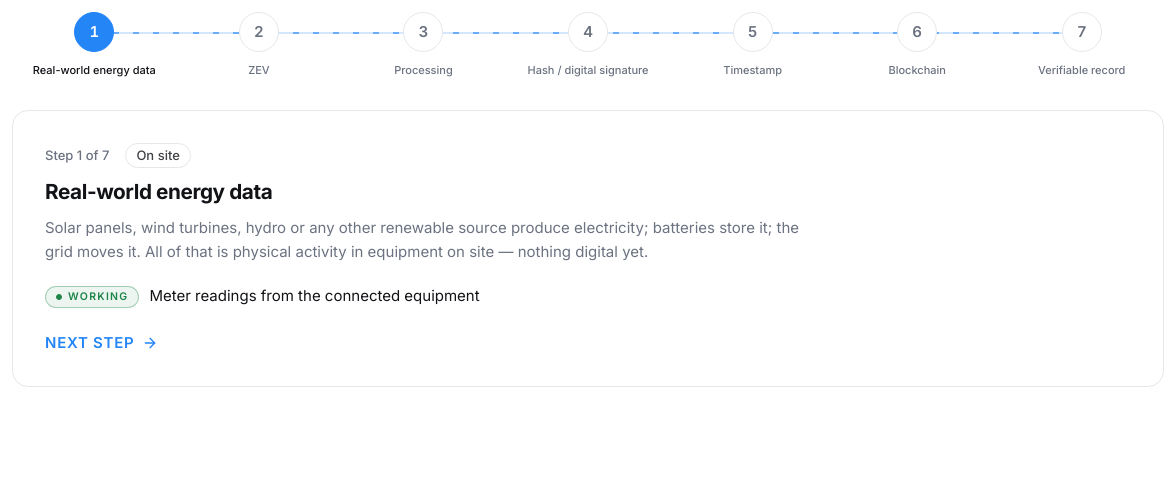
Test: <ValidationPipeline /> interaction (brief §5) › opens one step at a time and advances by click, keyboard and the Next button
The width and height of the screenshot is (1176, 487).
Check: the panel shows "nothing digital yet", box x1=45 y1=218 x2=799 y2=262
Click the tab "6 Blockchain" at (917, 45), box x1=835 y1=12 x2=1000 y2=78
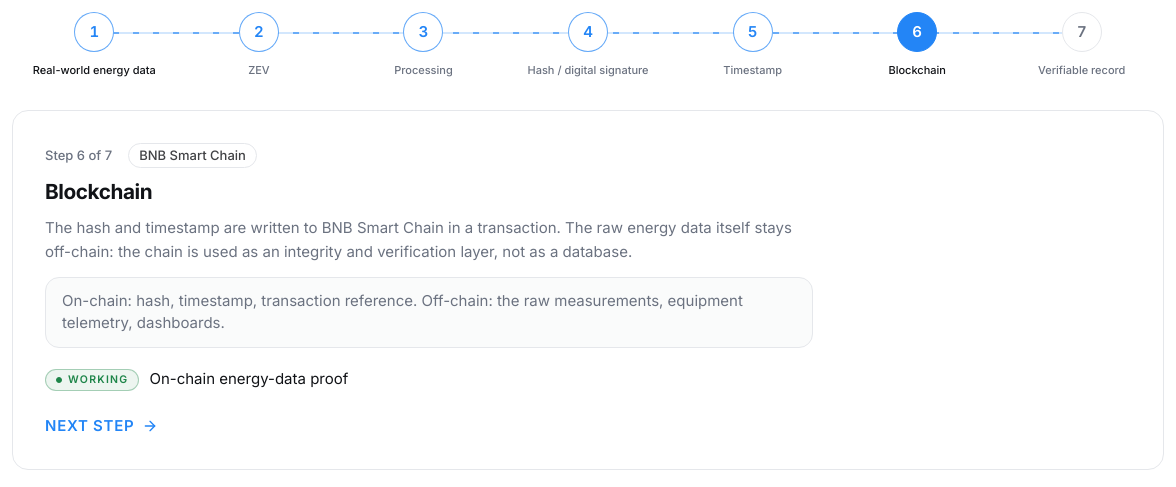
Check: the panel shows "BNB Smart Chain", box x1=139 y1=147 x2=246 y2=163
Check: the panel shows "stays off-chain", box x1=45 y1=218 x2=792 y2=262
Press ArrowRight in the tab "6 Blockchain", box x1=835 y1=12 x2=1000 y2=78
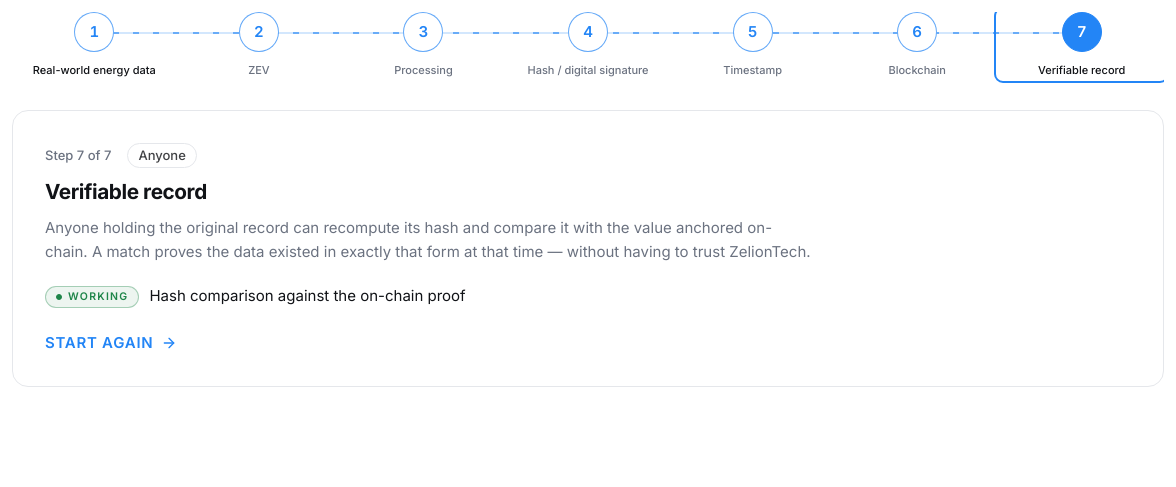
Check: the button "Start again" is shown
Click the button "Start again" at (111, 343), box x1=45 y1=332 x2=178 y2=354
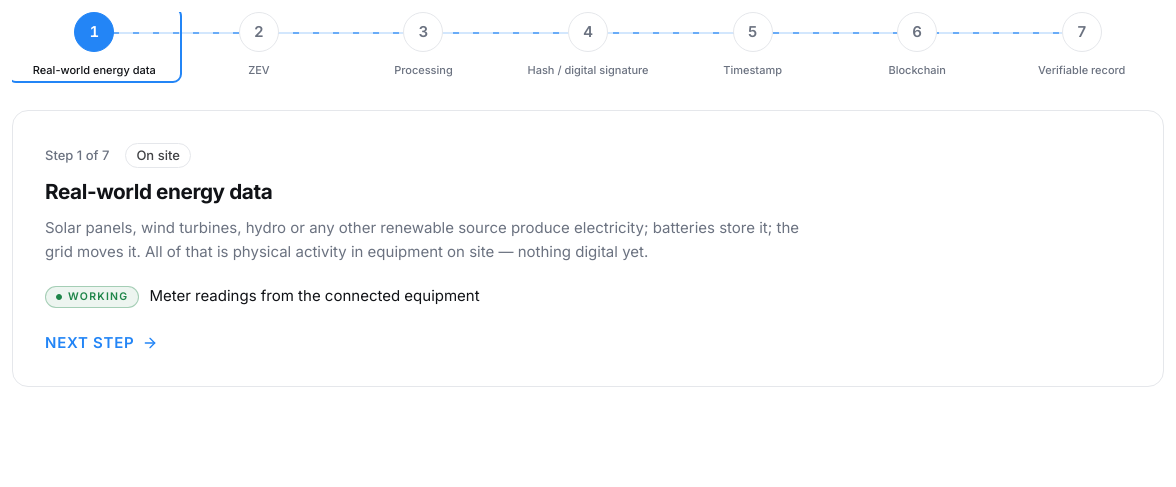
Check: the tab "1 Real-world energy data" is selected, box x1=12 y1=12 x2=177 y2=78
Click the button "Next step" at (102, 343), box x1=45 y1=332 x2=158 y2=354
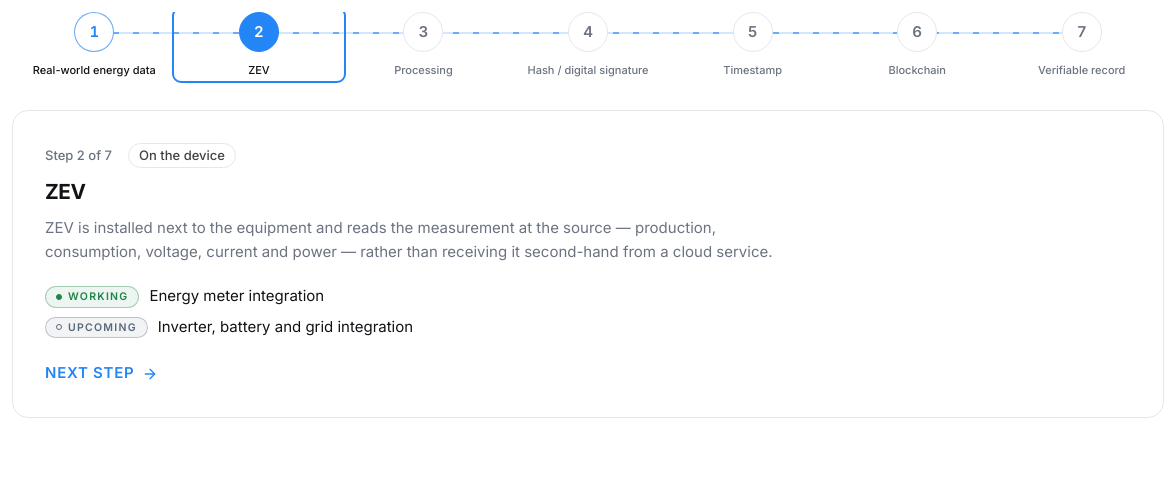
Check: the panel shows "Step 2 of 7"
